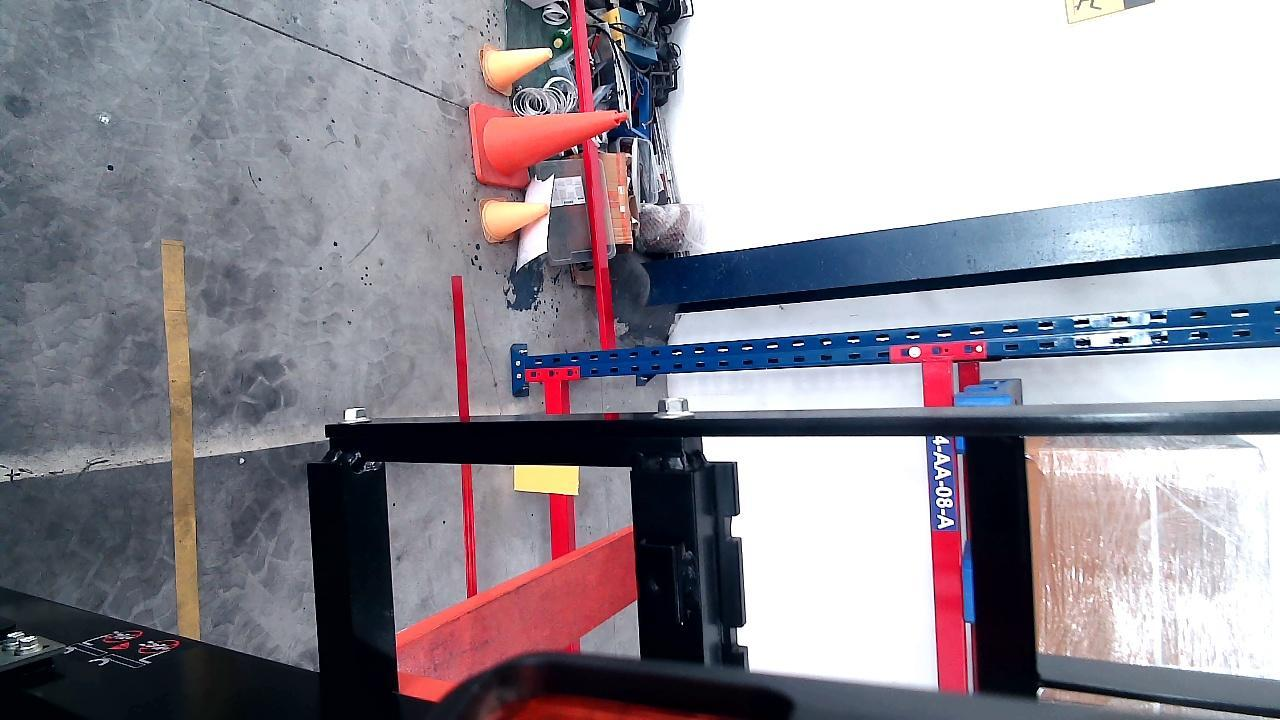red_line: (450, 275, 477, 595)
yellow_line: (168, 234, 199, 640)
